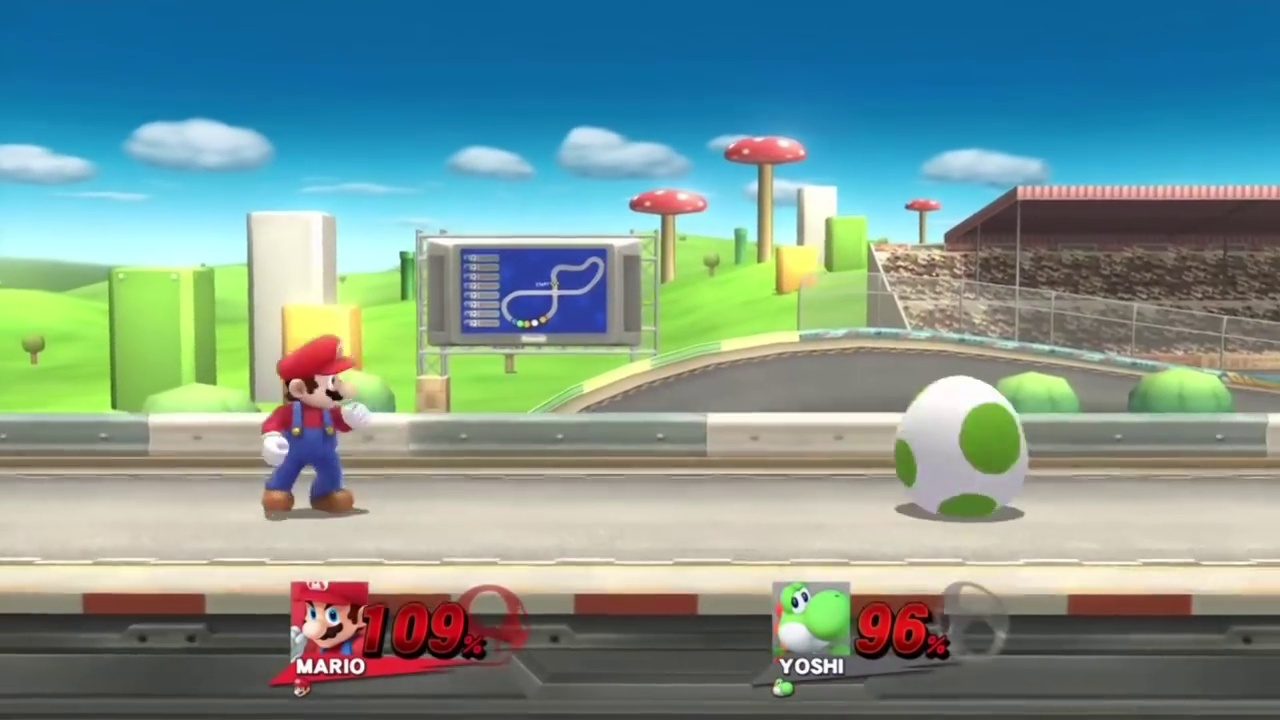Mario: (261, 336, 371, 512)
